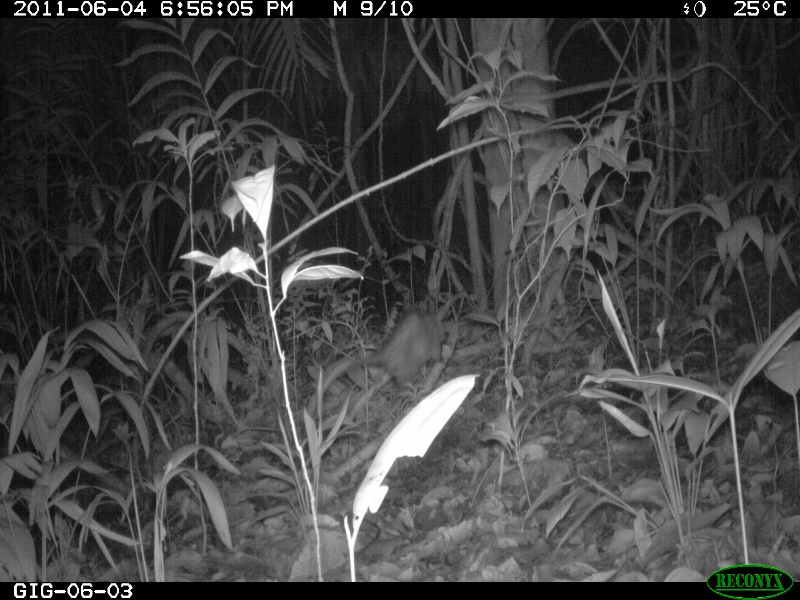opossum: (317, 303, 450, 404)
